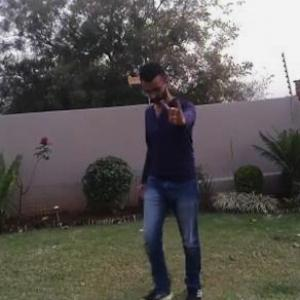takeoff-hand: (156, 92, 188, 128)
